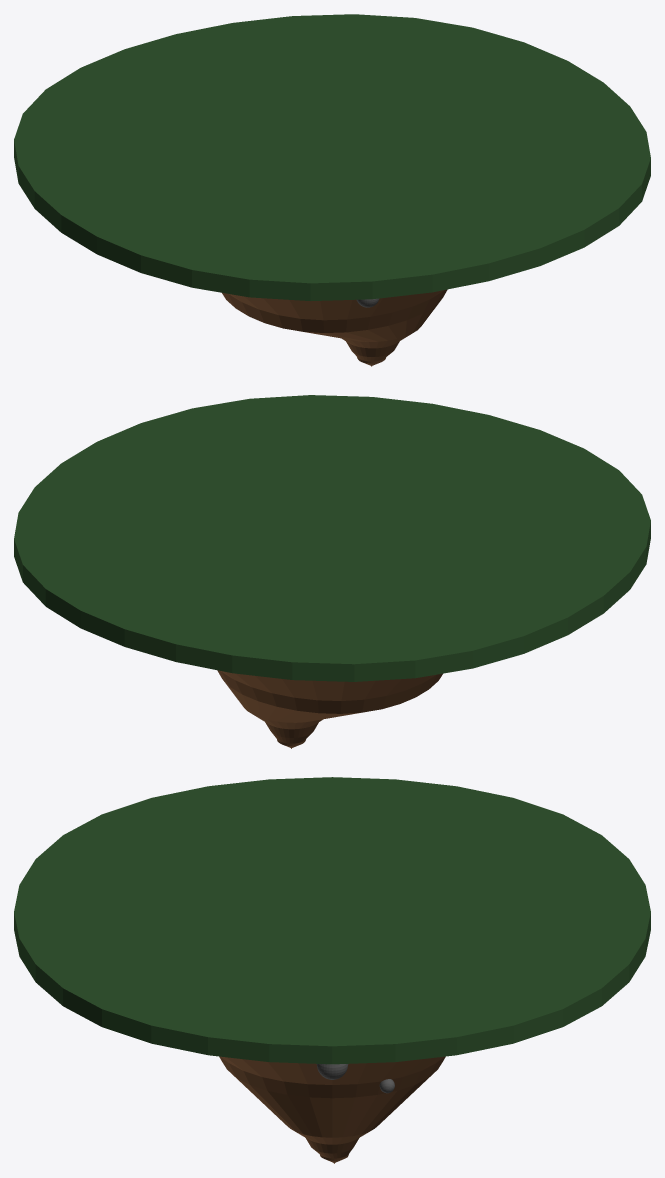
File: island.fbx
3 renders of one model, top to bottom at view 1: azimuth 30°, elevation 25°; view 2: azimuth 150°, elevation 25°; view 3: azimuth 270°, elevation 25°, orthographic.
Visible parts, largest first — view 1: Cube; view 2: Cube; view 3: Cube.
Boxes of the visible parts, left/top/right/bottom form: Cube: left=14, top=14, right=650, bottom=366; Cube: left=14, top=395, right=650, bottom=748; Cube: left=14, top=777, right=650, bottom=1163.
Bounding box in the file's own units: 298 × 120 × 298.
